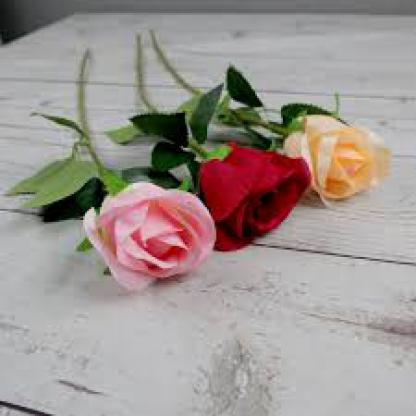Rose-Mawar: (75, 170, 225, 290), (268, 92, 401, 219), (193, 136, 310, 249)
